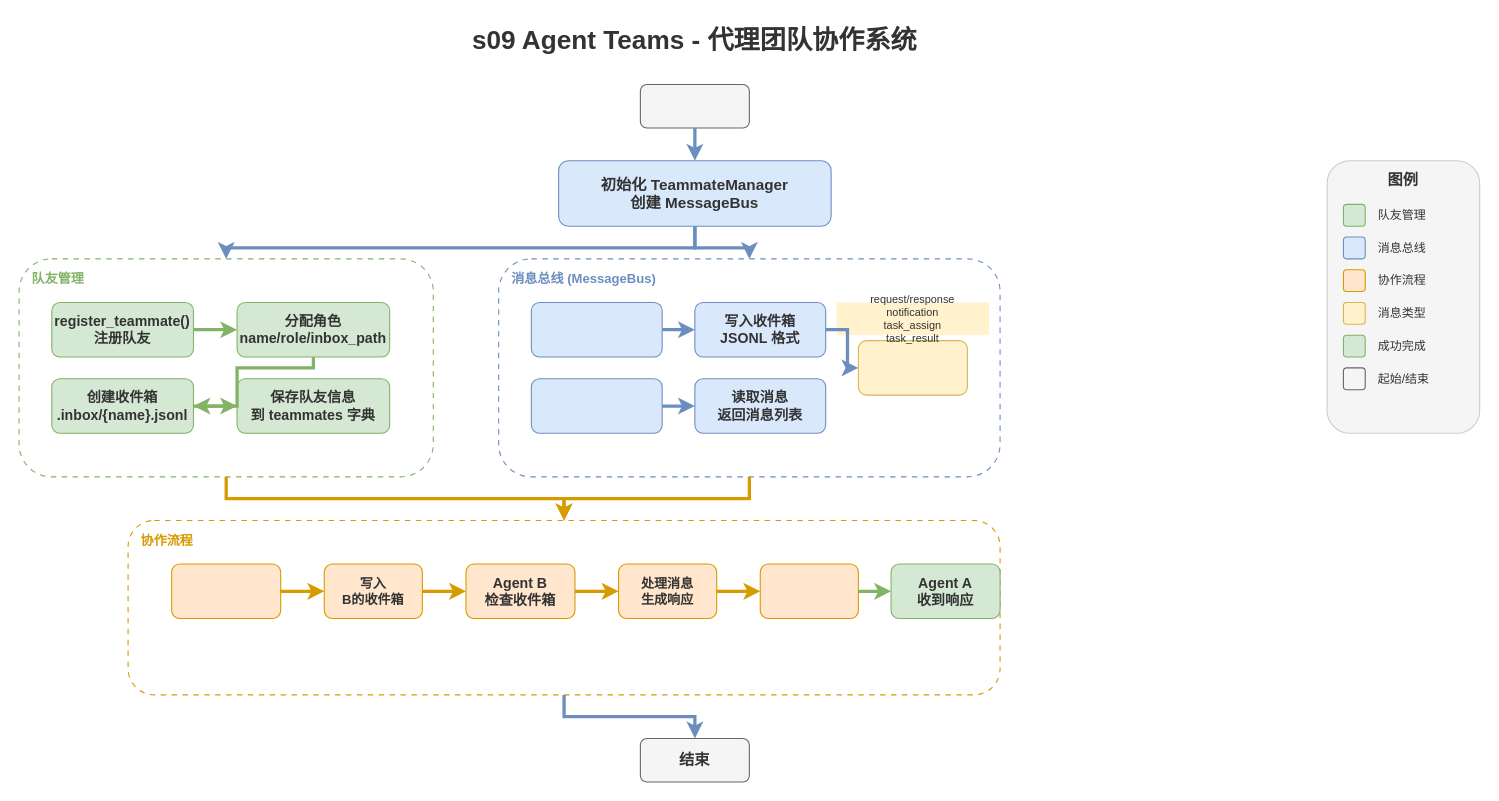
Image size: 1499x801. Some labels were removed from this diagram. The shapes that lost their labels are listed below. From the top down, each one's centre as x and y in pixels, then its label:
(x=694, y=105): 开始
(x=596, y=329): send_message() 发送消息
(x=912, y=367): 5种消息类型
(x=596, y=405): check_inbox() 检查收件箱
(x=226, y=591): Agent A 发送请求
(x=808, y=591): 写入 A的收件箱
